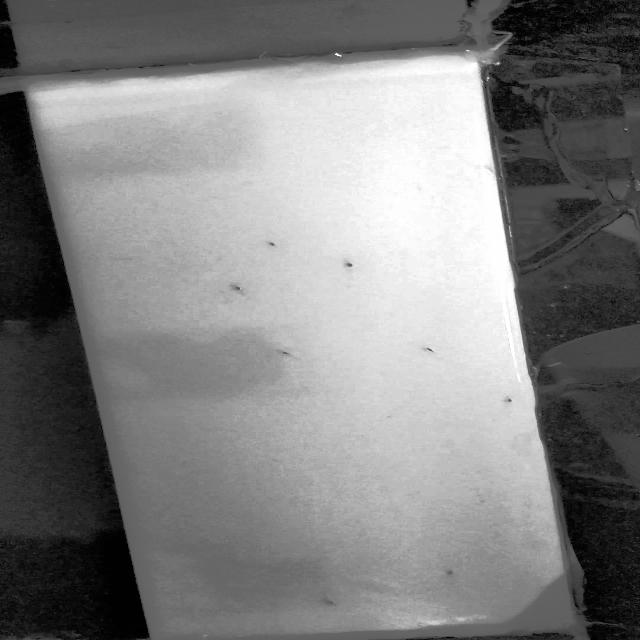shrimp: (422, 344, 451, 356), (223, 282, 247, 292), (276, 348, 297, 359), (323, 598, 342, 609), (269, 240, 294, 248), (442, 568, 460, 579), (340, 261, 360, 269), (502, 396, 514, 406)
